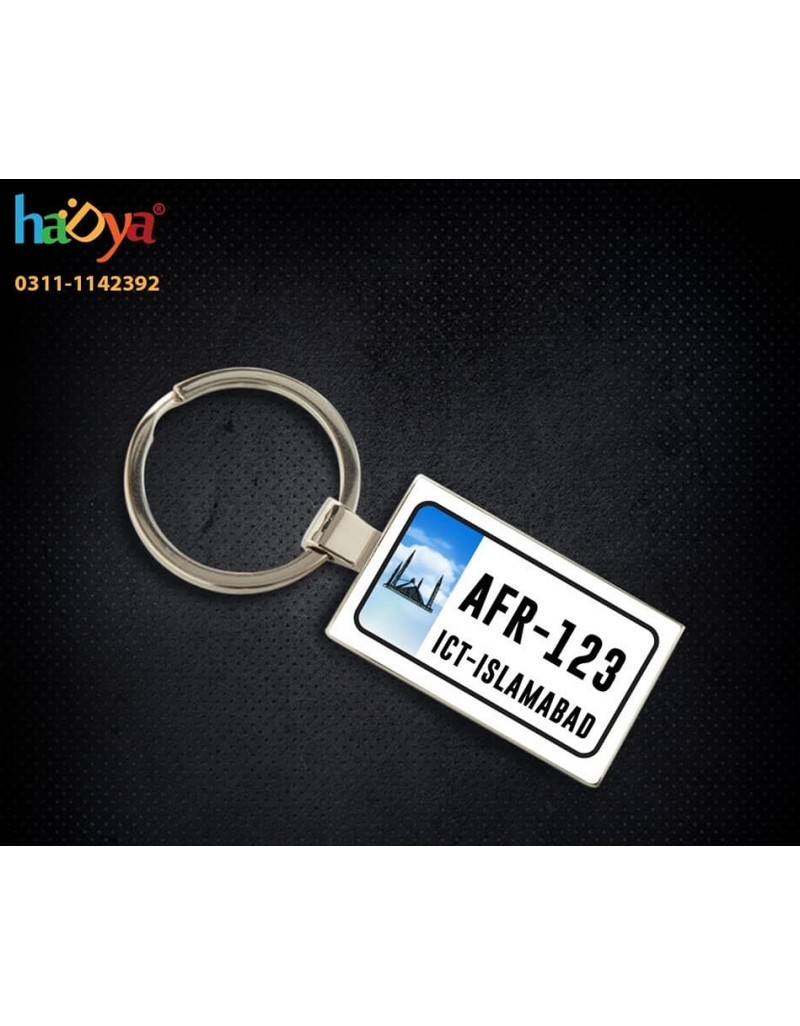plate: (313, 453, 697, 792)
